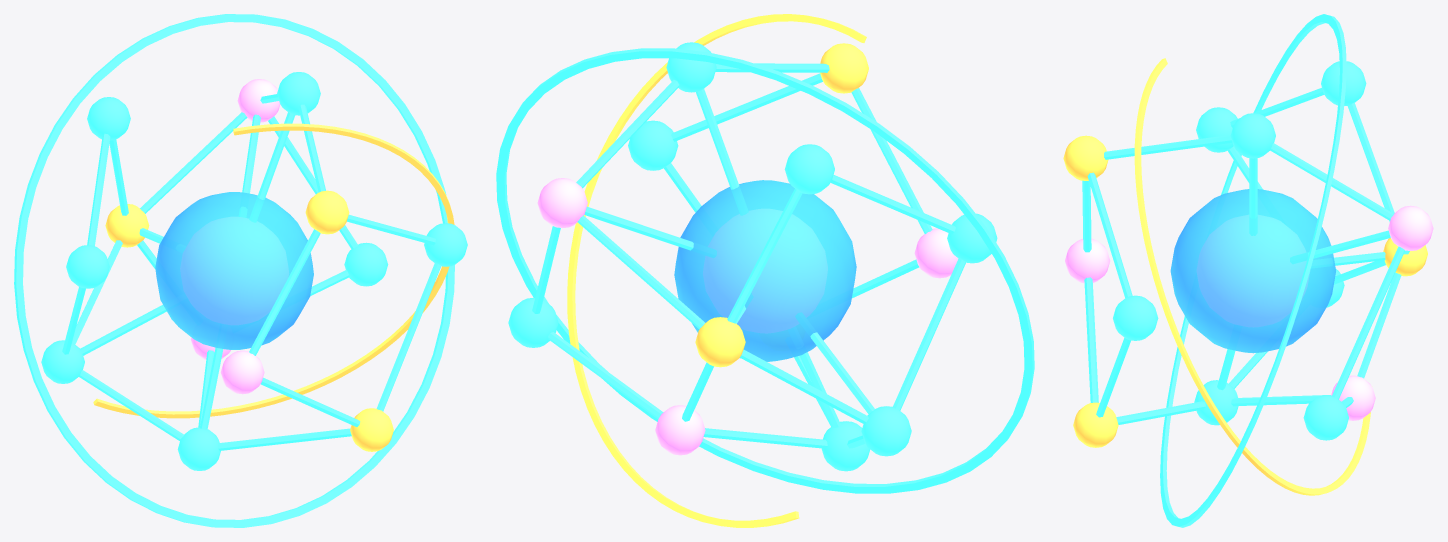
File: holo_nodes.glb
3 views of the same model, side by side, from view 1: azimuth 30°, elevation 25°; view 2: azimuth 150°, elevation 25°; view 3: azimuth 270°, elevation 25° (orthographic). The views are drawn at different scales.
Visible parts, largest first — view 1: holo_nodes; view 2: holo_nodes; view 3: holo_nodes.
Part boxes in pixels (<box>): holo_nodes: <box>14,14,467,527</box>; holo_nodes: <box>496,14,1034,527</box>; holo_nodes: <box>1063,14,1433,527</box>.
Size of the model in its own units: 0.515 by 0.4865 by 0.3575.
